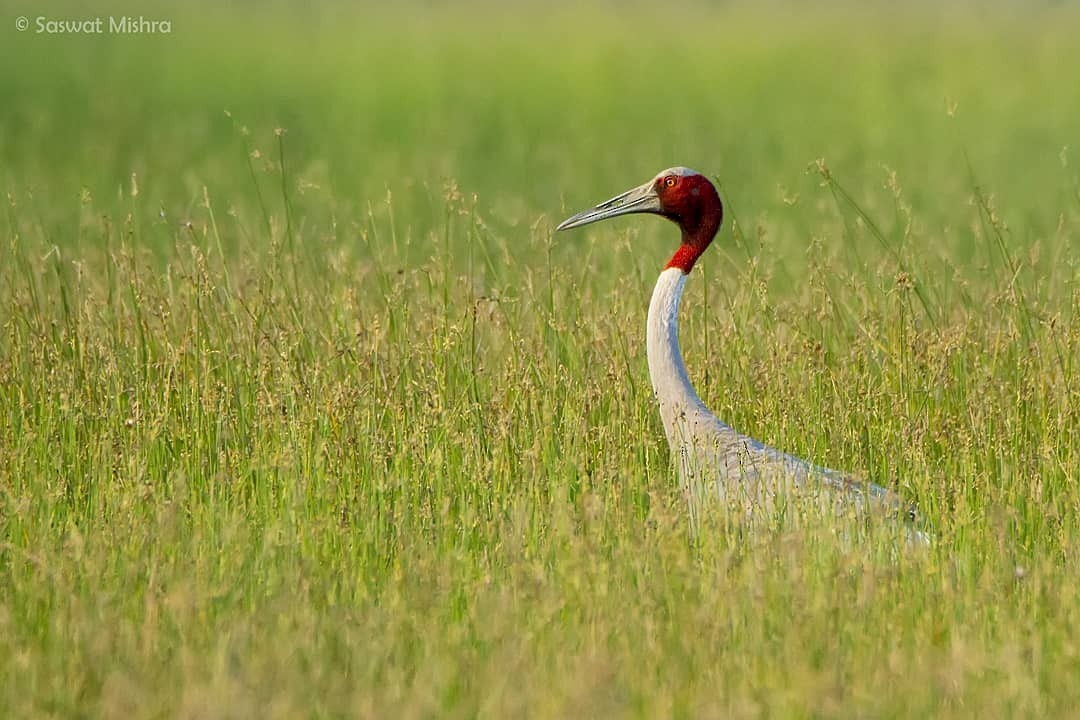crane: (547, 165, 912, 512)
